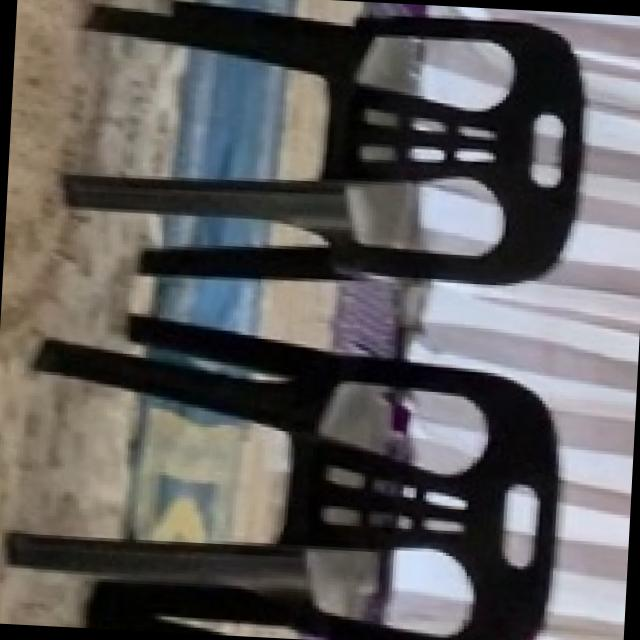Chair: (0, 313, 570, 640), (28, 0, 594, 302)
